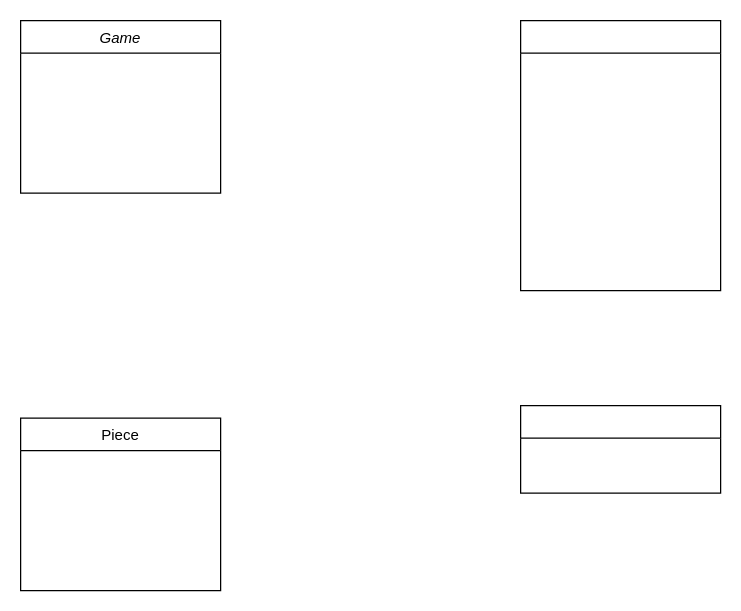
Image size: 741x611. Some labels were removed from this diagram. Here are the shapes that lost their labels. From the top down, the centre of each, then its label:
At pixel 620 155: "Player".
At pixel 620 448: "Move".
